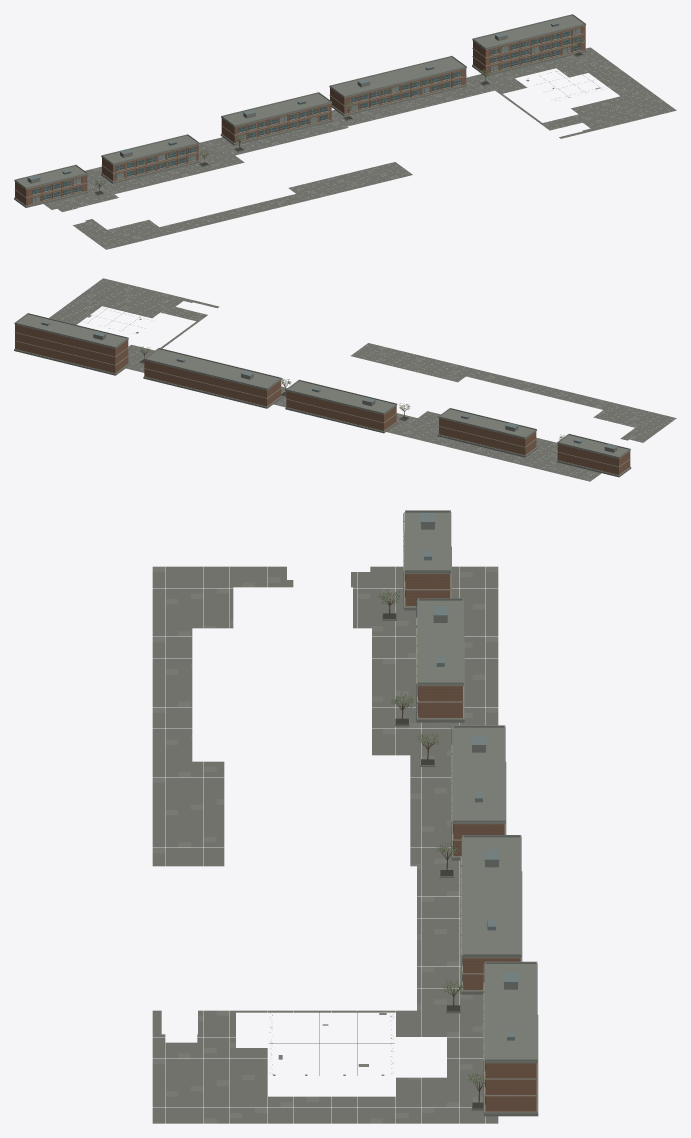
File: school-surroundings.glb
3 views of the same model, one above another, from view 1: azimuth 30°, elevation 25°; view 2: azimuth 150°, elevation 25°; view 3: azimuth 270°, elevation 25° (orthographic). The views are drawn at different scales.
Parts seen in each view (by area): view 1: gym-wing_surface, roof-wing_surface, staffroom-wing_surface, library-wing_surface, roof-wing_brick, broadcast-wing_surface, gym-wing_brick, staffroom-wing_brick, roof-wing_glazing, library-wing_brick, apron-12-2_surface, apron-10-0_surface (+31 smaller); view 2: roof-wing_brick, gym-wing_surface, gym-wing_brick, roof-wing_surface, staffroom-wing_surface, staffroom-wing_brick, library-wing_brick, library-wing_surface, broadcast-wing_brick, broadcast-wing_surface, apron-12-2_surface, apron-11-2_surface (+20 smaller); view 3: gym-wing_surface, roof-wing_surface, staffroom-wing_surface, library-wing_surface, apron-12-2_surface, apron-12-0_surface, apron-10-0_surface, apron-11-2_surface, broadcast-wing_surface, apron-0-2_surface, apron-12-1_surface, apron-3-0_surface (+30 smaller).
Part boxes in pixels (x1=…): gym-wing_surface: x1=329, y1=56, x2=467, y2=116; roof-wing_surface: x1=472, y1=14, x2=586, y2=75; staffroom-wing_surface: x1=220, y1=92, x2=332, y2=145; library-wing_surface: x1=101, y1=134, x2=200, y2=183; roof-wing_brick: x1=473, y1=26, x2=585, y2=73; broadcast-wing_surface: x1=14, y1=164, x2=88, y2=207; gym-wing_brick: x1=330, y1=68, x2=465, y2=113; staffroom-wing_brick: x1=221, y1=104, x2=331, y2=142; roof-wing_glazing: x1=491, y1=28, x2=580, y2=71; library-wing_brick: x1=102, y1=145, x2=198, y2=181; apron-12-2_surface: x1=610, y1=85, x2=666, y2=112; apron-10-0_surface: x1=466, y1=70, x2=527, y2=94; roof-wing_brick: x1=15, y1=324, x2=128, y2=373; gym-wing_surface: x1=143, y1=348, x2=282, y2=408; gym-wing_brick: x1=144, y1=360, x2=281, y2=406; roof-wing_surface: x1=14, y1=313, x2=129, y2=375; staffroom-wing_surface: x1=285, y1=379, x2=397, y2=433; staffroom-wing_brick: x1=286, y1=391, x2=396, y2=430; library-wing_brick: x1=439, y1=418, x2=536, y2=454; library-wing_surface: x1=437, y1=408, x2=537, y2=457; broadcast-wing_brick: x1=557, y1=444, x2=630, y2=474; broadcast-wing_surface: x1=556, y1=434, x2=631, y2=477; apron-12-2_surface: x1=68, y1=285, x2=131, y2=310; apron-11-2_surface: x1=113, y1=295, x2=176, y2=318; gym-wing_surface: x1=460, y1=835, x2=522, y2=994; roof-wing_surface: x1=483, y1=961, x2=538, y2=1116; staffroom-wing_surface: x1=451, y1=725, x2=506, y2=860; library-wing_surface: x1=416, y1=598, x2=464, y2=722; apron-12-2_surface: x1=191, y1=1086, x2=293, y2=1123; apron-12-0_surface: x1=396, y1=1086, x2=498, y2=1123; apron-10-0_surface: x1=396, y1=999, x2=483, y2=1042; apron-11-2_surface: x1=191, y1=1042, x2=267, y2=1085; broadcast-wing_surface: x1=403, y1=510, x2=451, y2=610; apron-0-2_surface: x1=191, y1=566, x2=293, y2=609; apron-12-1_surface: x1=293, y1=1096, x2=395, y2=1123; apron-3-0_surface: x1=396, y1=696, x2=498, y2=739.
Bounding box in the file's own units: 212 × 10.78 × 60.24.
4 materials, 1 textured.
